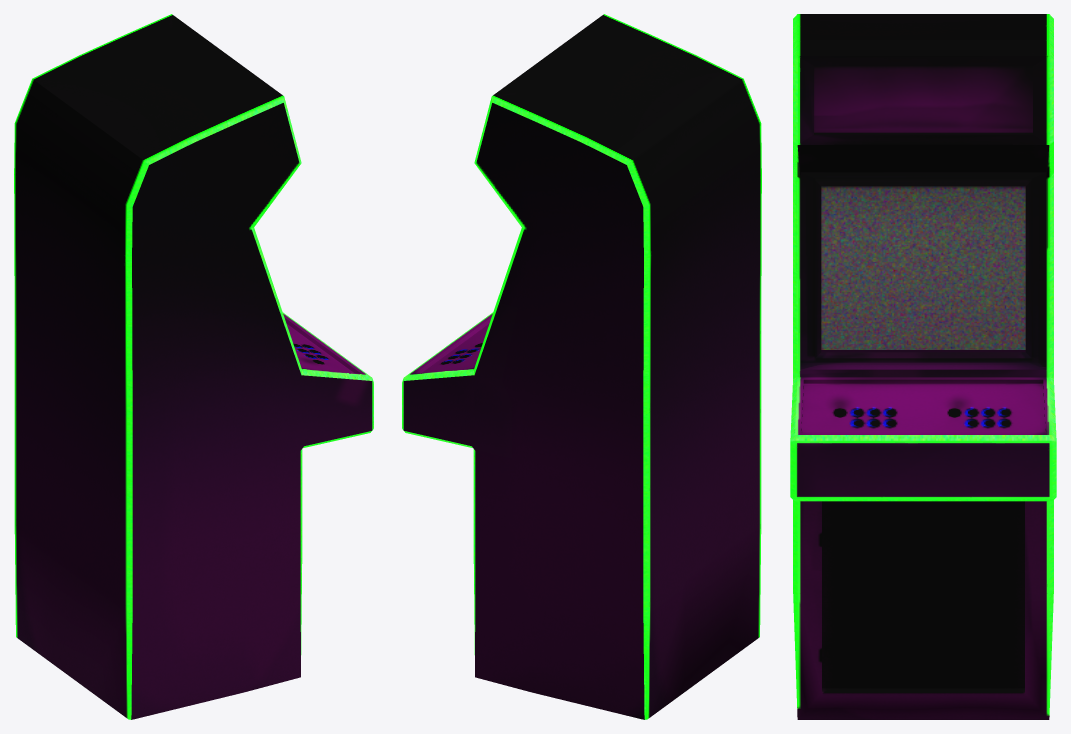
File: arcade scaled.fbx
3 renders of one model, left to right at view 1: azimuth 30°, elevation 25°; view 2: azimuth 150°, elevation 25°; view 3: azimuth 270°, elevation 25°, orthographic. The views are drawn at different scales.
Parts seen in each view (by area): view 1: Arcade_kast; view 2: Arcade_kast; view 3: Arcade_kast.
Boxes of the visible parts, x1=… form: Arcade_kast: x1=14, y1=14, x2=373, y2=719; Arcade_kast: x1=402, y1=14, x2=761, y2=719; Arcade_kast: x1=790, y1=14, x2=1056, y2=719.
Size of the model in its own units: 140 by 318 by 117.
